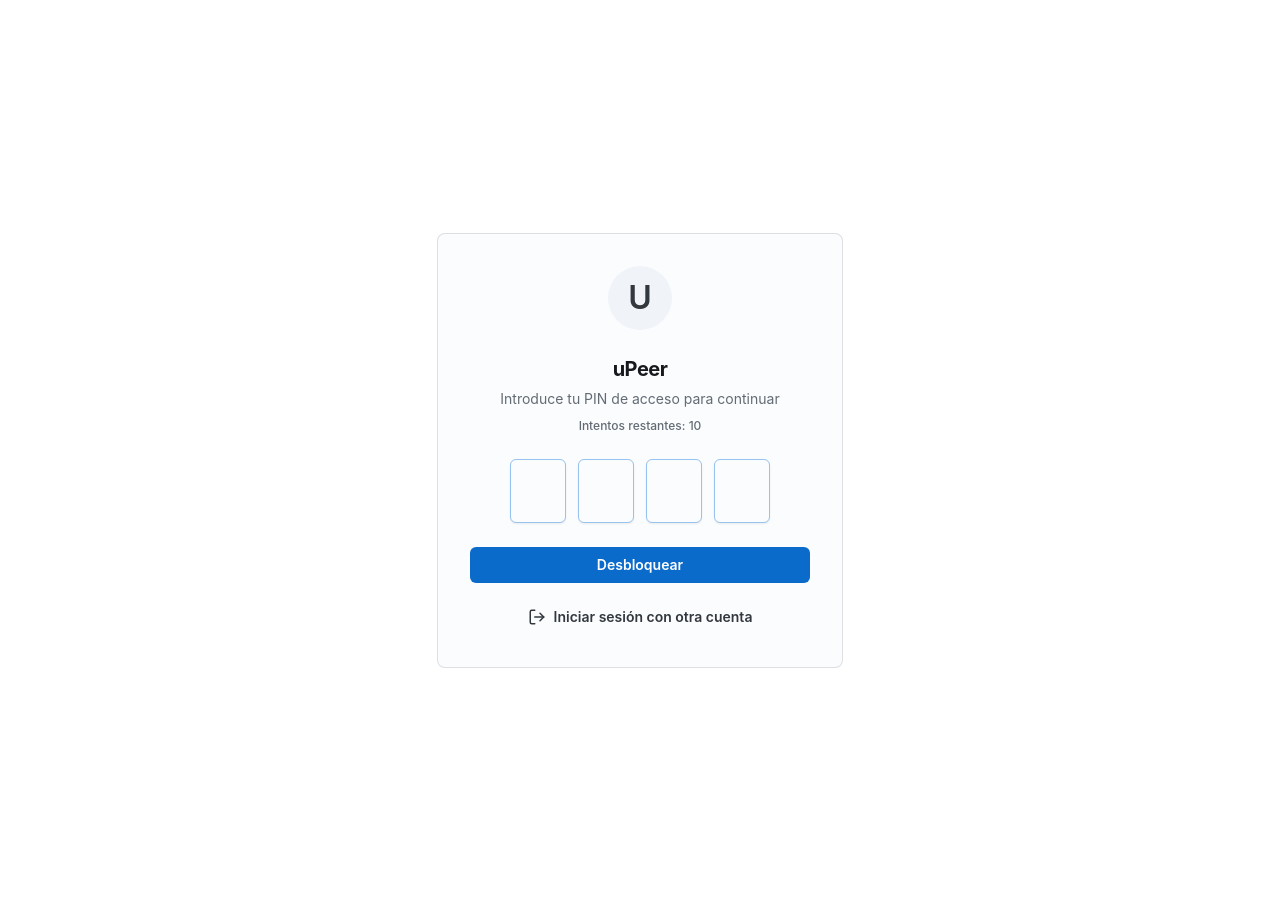
Test case: AppLock › debe mostrar error si verifyPin lanza excepción
The image size is (1280, 900).
Type "1" into the 1st password field.
click(538, 490); type("1")  # box [523,460,553,522]
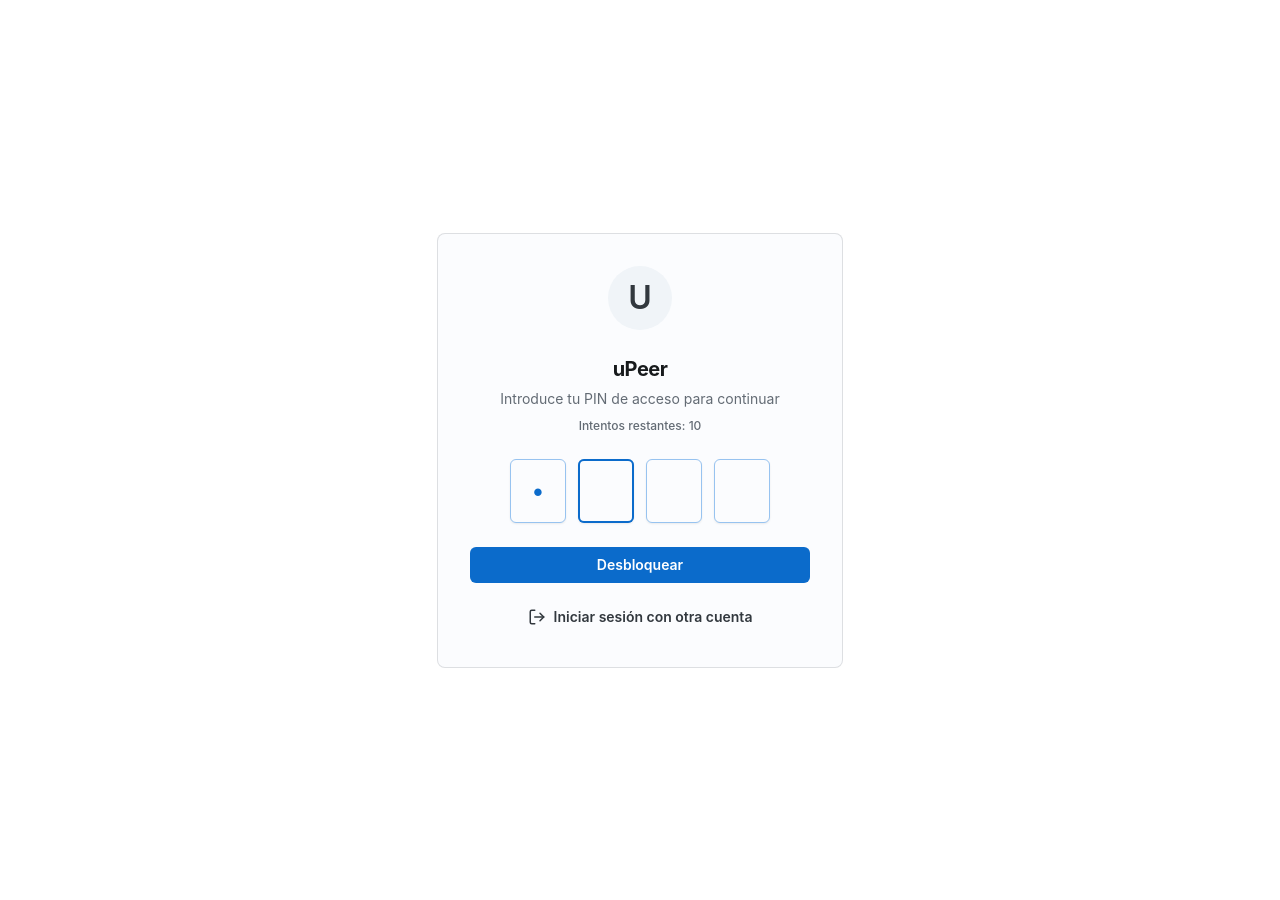
Type "2" into the 2nd password field.
click(606, 490); type("2")  # box [591,460,621,522]
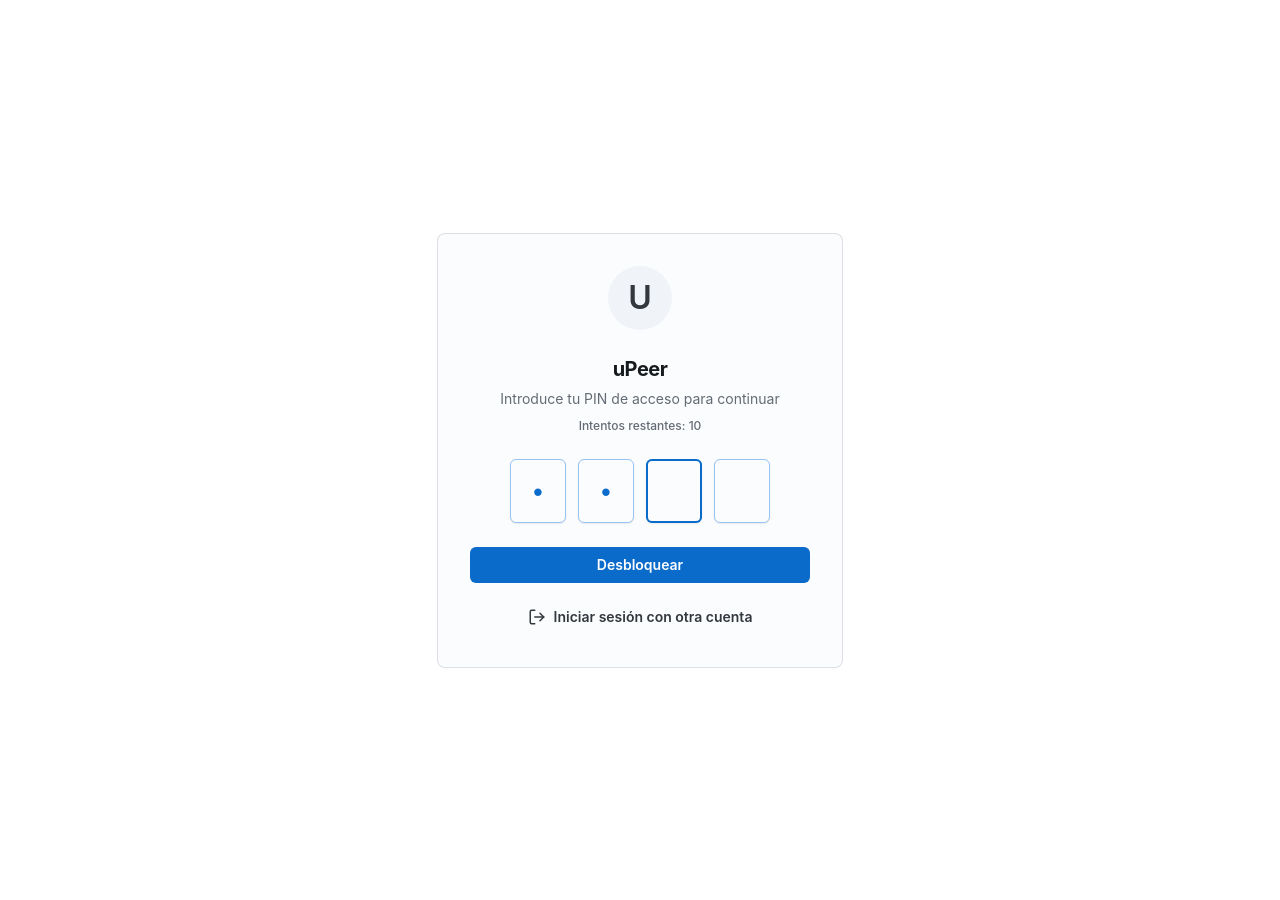
Type "3" into the 3rd password field.
click(674, 490); type("3")  # box [659,460,689,522]
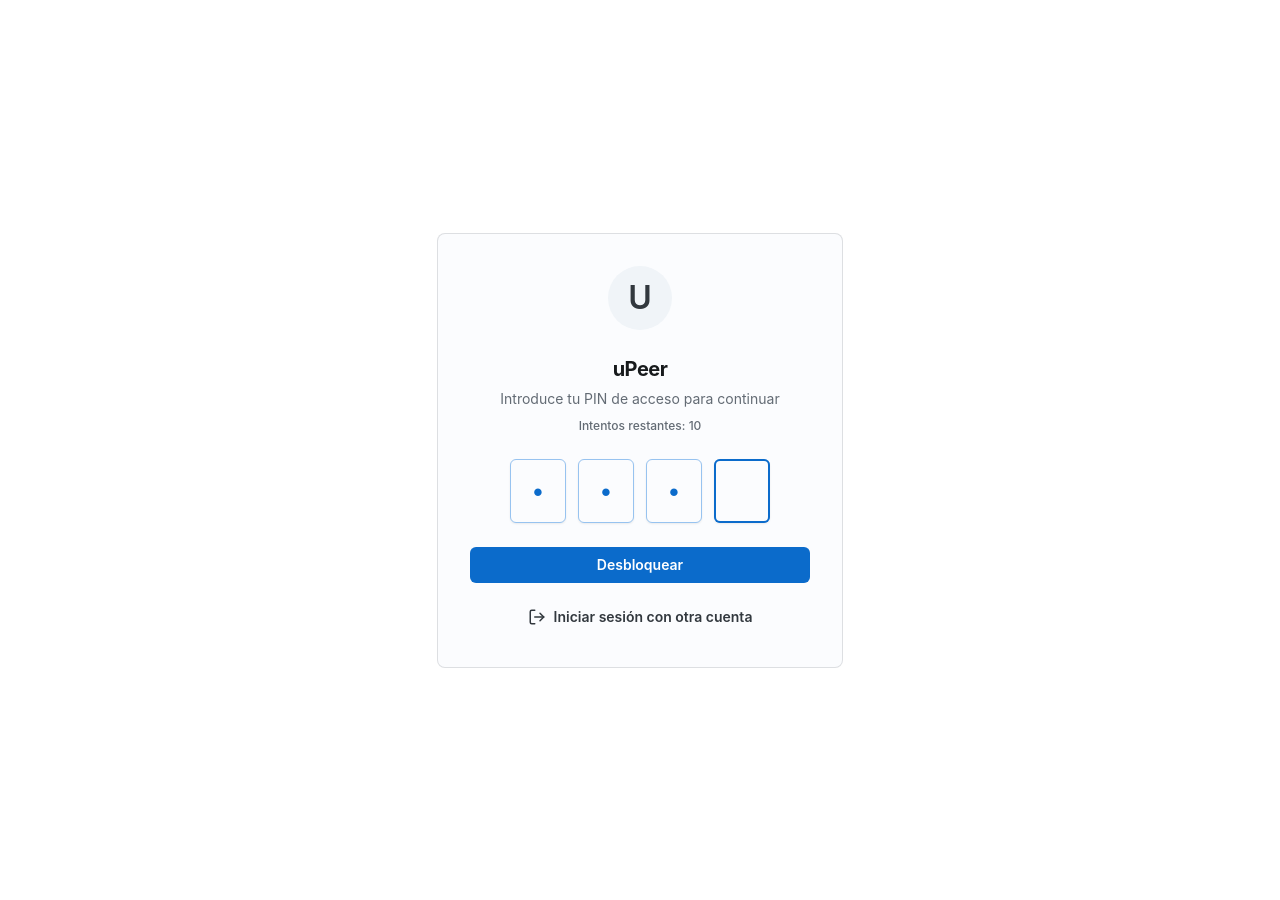
Type "4" into the 4th password field.
click(742, 490); type("4")  # box [727,460,757,522]
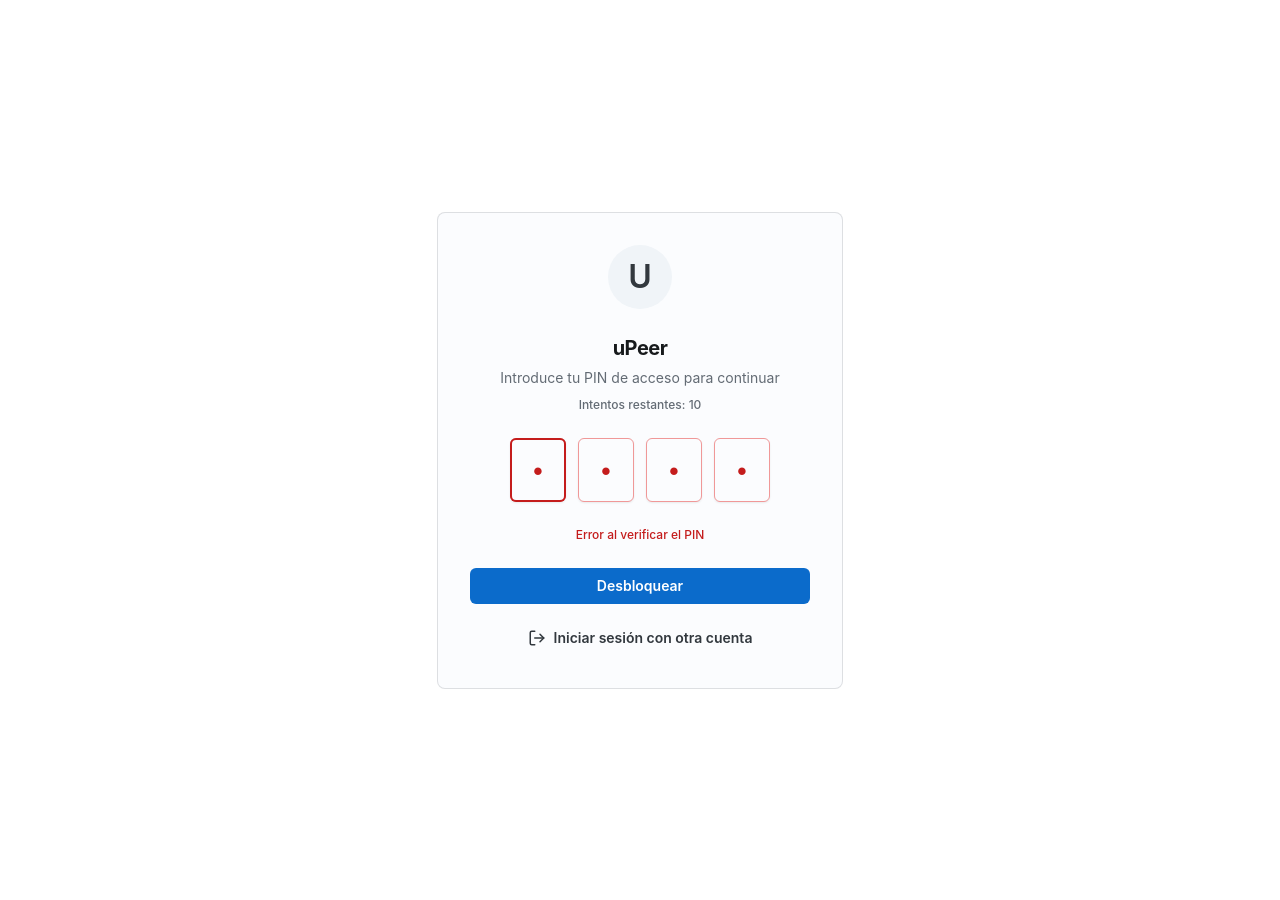
Expected: the text "Error al verificar el PIN" is shown, [576,526,704,542]
